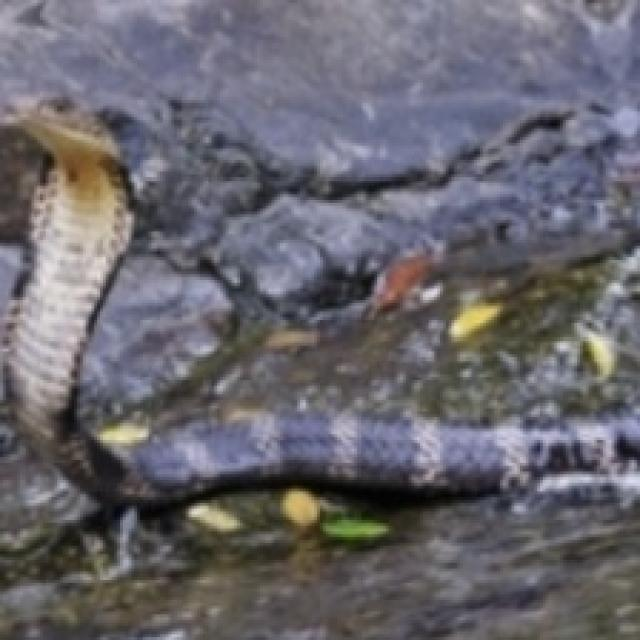king cobra: (0, 106, 637, 554)
